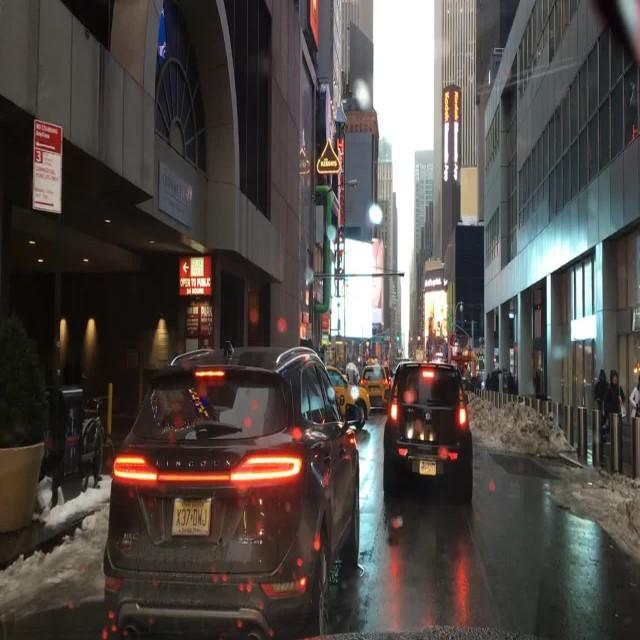normal: (92, 332, 409, 639), (383, 361, 473, 503), (327, 362, 370, 427), (358, 364, 390, 408)
